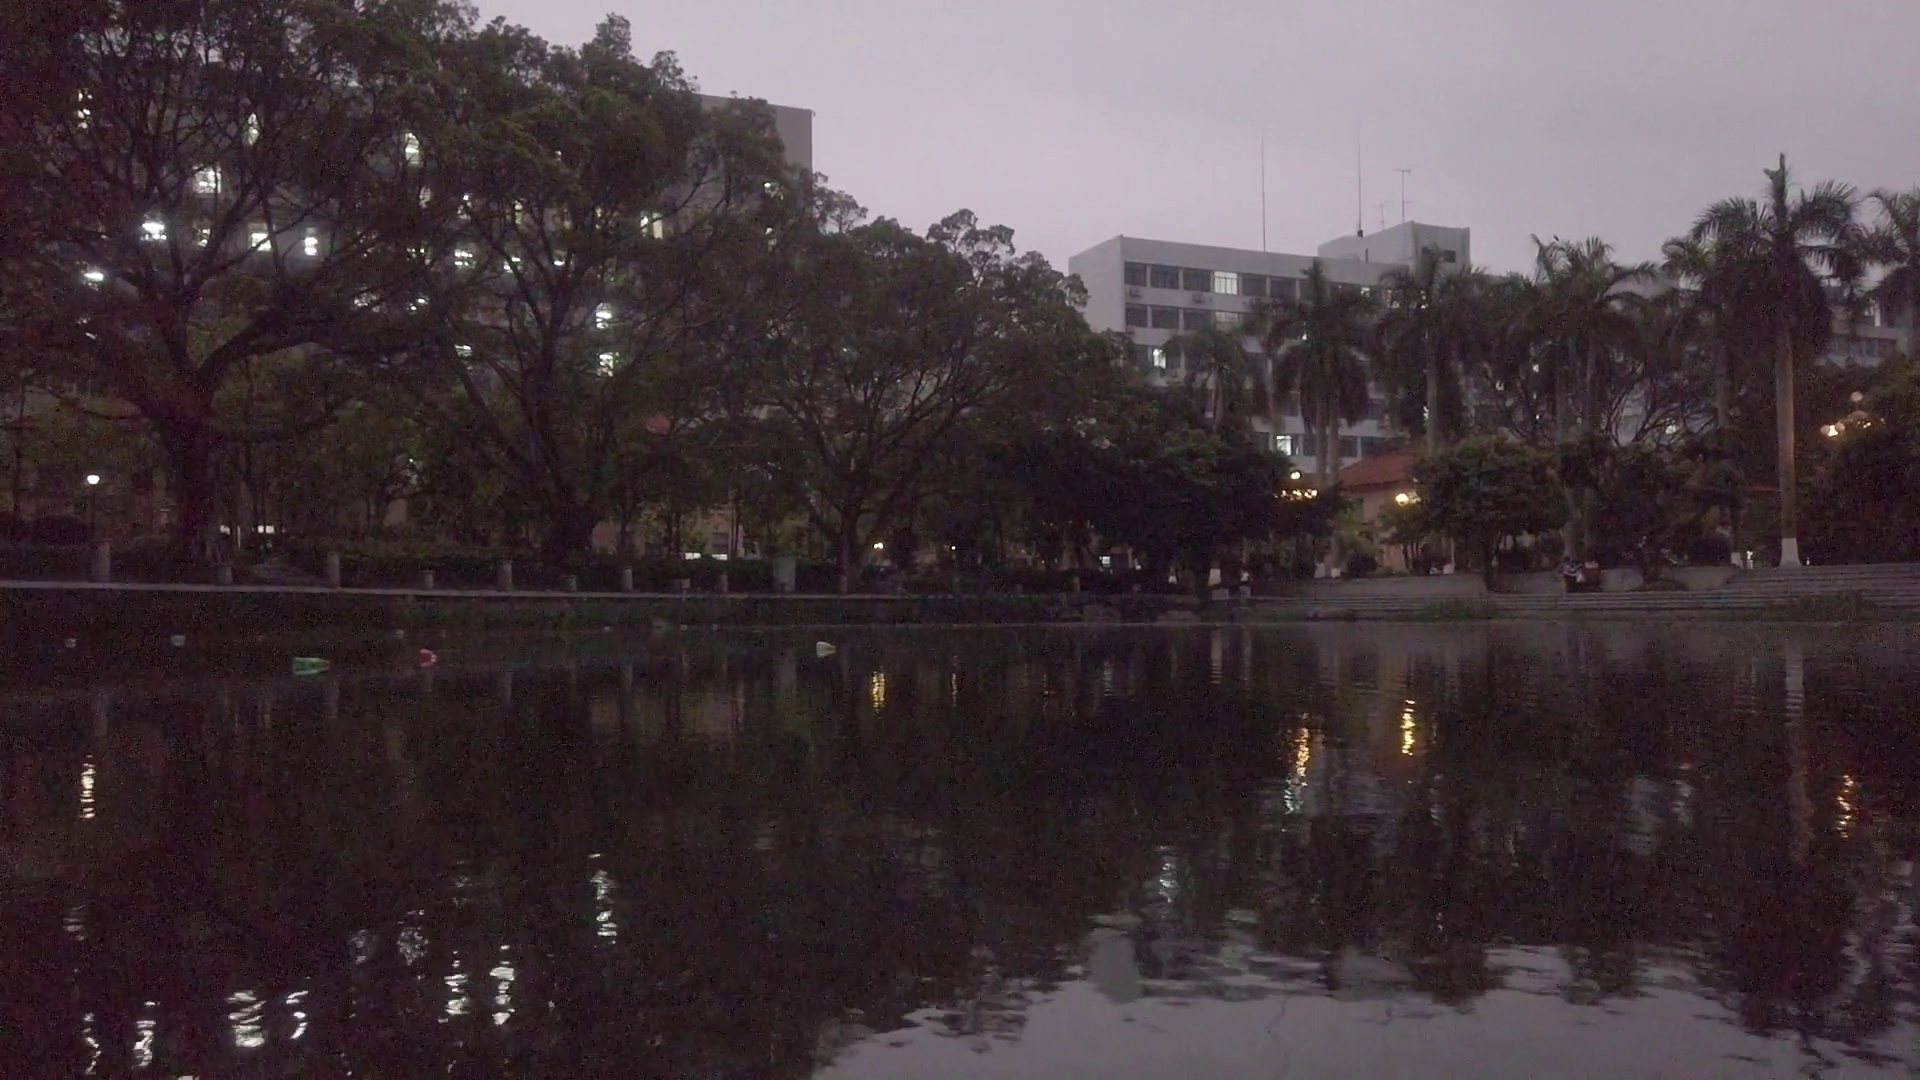bottle: (295, 658, 332, 671), (708, 621, 727, 640), (418, 649, 436, 663), (62, 636, 76, 651), (819, 641, 835, 651), (673, 622, 686, 633)
carton: (164, 628, 185, 649)
